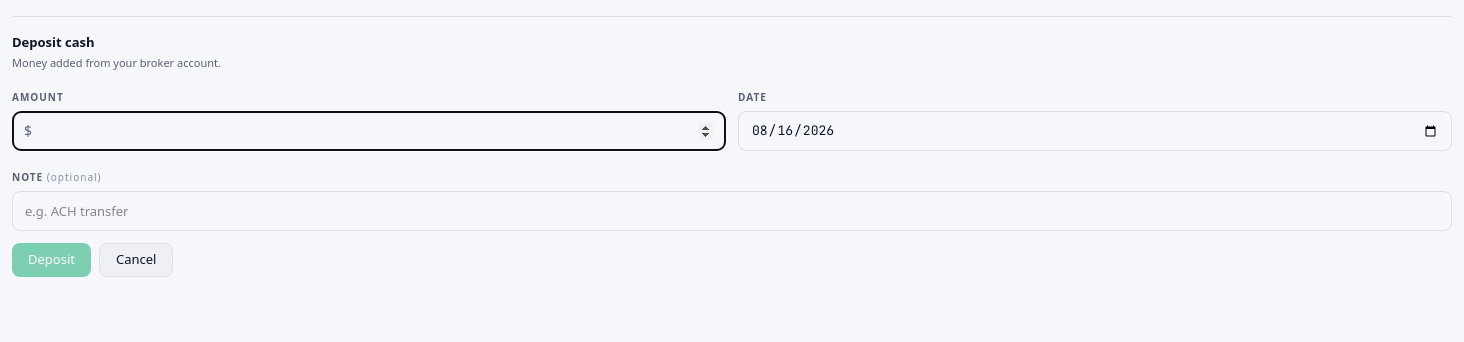
Test: CashActionForm — reconcile validation › still rejects a negative deposit (sign comes from source, must be positive)
The width and height of the screenshot is (1464, 342).
Type "-100" into the number field at (369, 131), box [12,111,726,151]
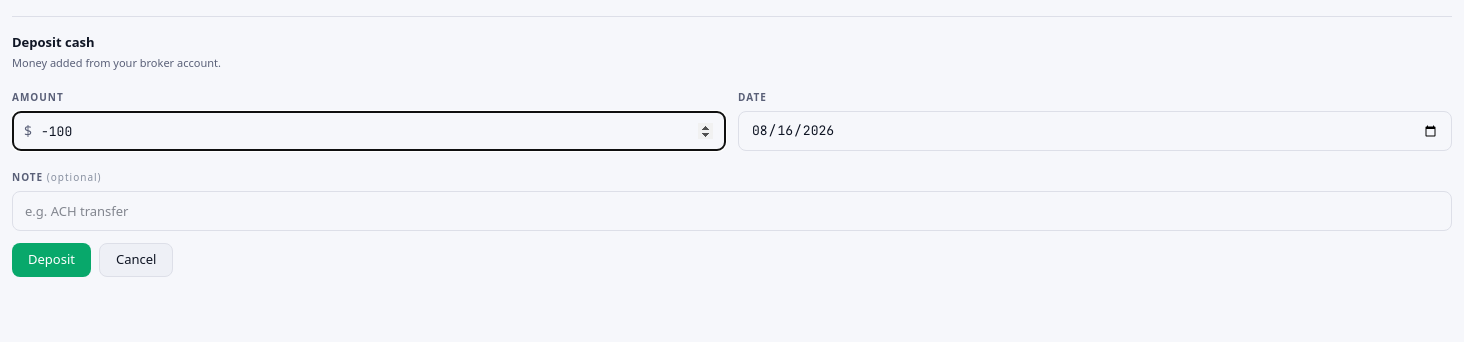
Click the button "Deposit" at (52, 260), box [12,243,91,277]
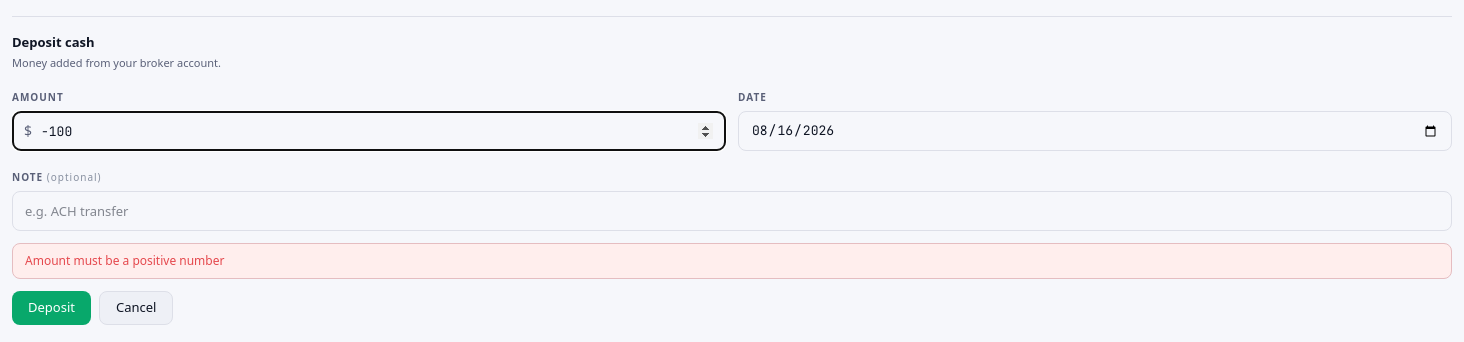
Now the text "Amount must be a positive number" is shown, box [12,243,1452,279]
